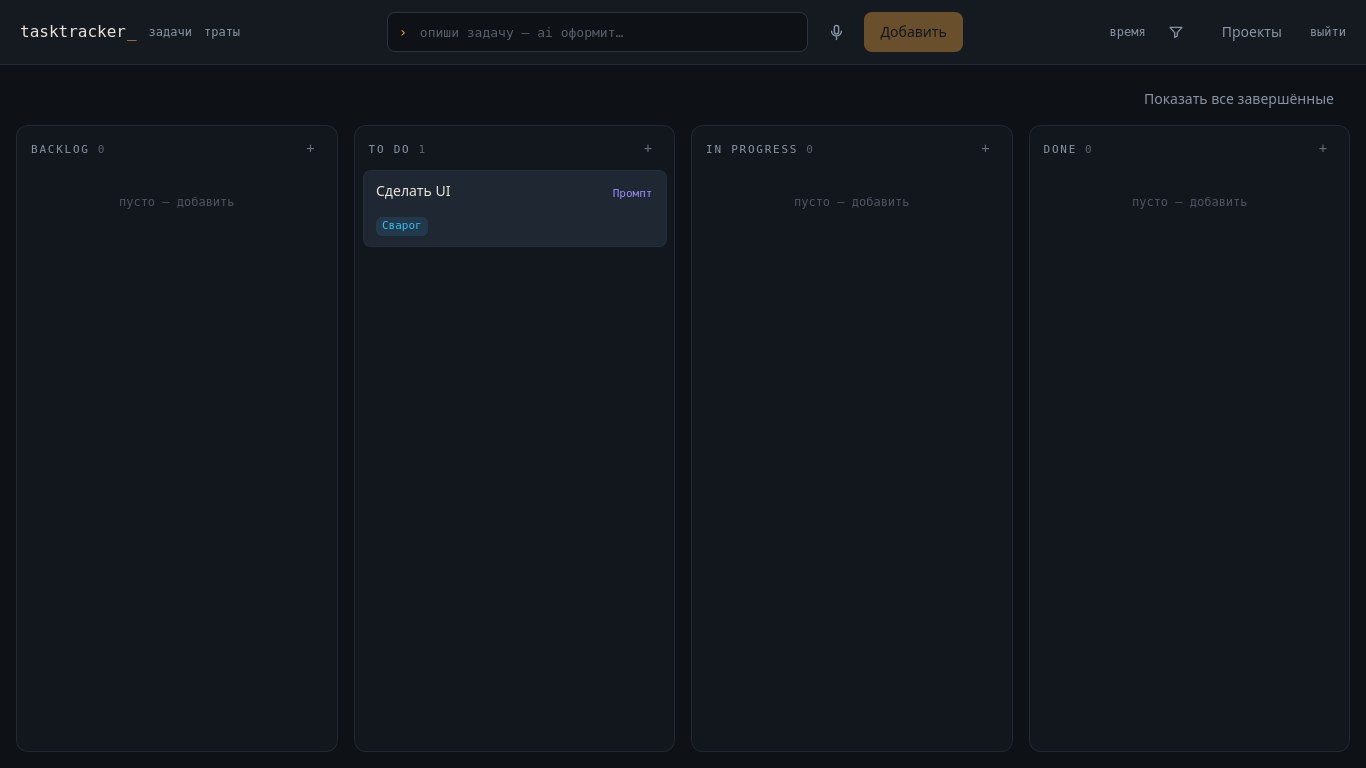
Test case: BoardPage: перетаскивание и живой таймер › после перевода задачи в работу analytics инвалидируется и таймер появляется
expect the text "Сделать UI" is shown: met, box left=376, top=181, right=450, bottom=200
expect the text "▶" is not shown: met
Press the mouse on the button "Сделать UI Сварог" at (514, 208), box left=362, top=170, right=666, bottom=246
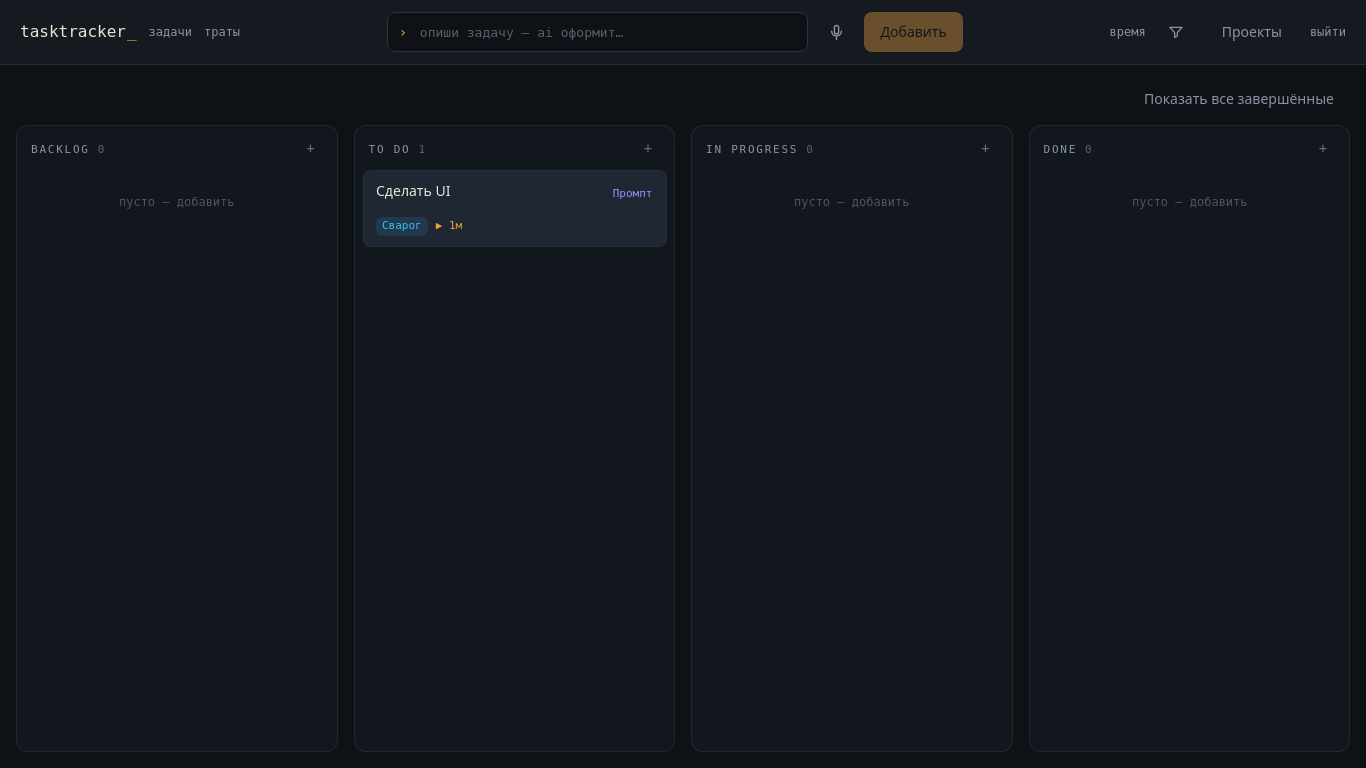
expect the text "▶" is shown: met, box left=435, top=219, right=442, bottom=232
